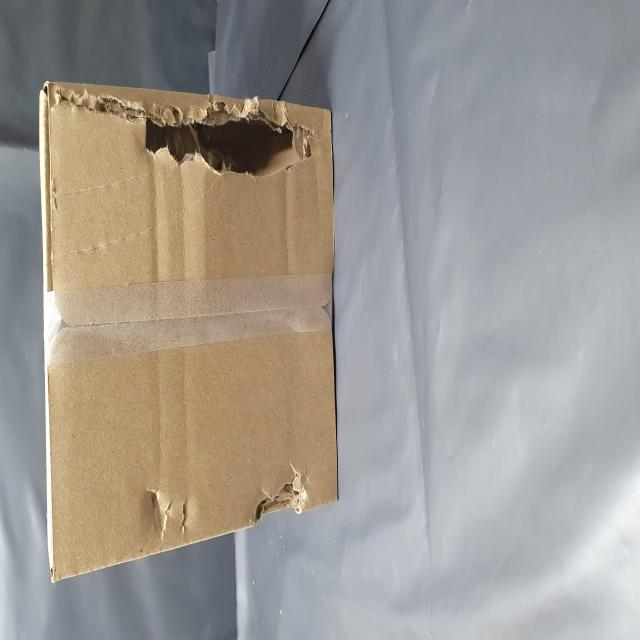damaged: (262, 93, 304, 563)
